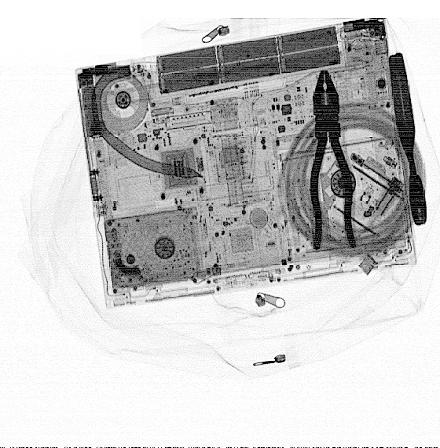Pliers: (305, 66, 360, 256), (387, 51, 428, 226)
